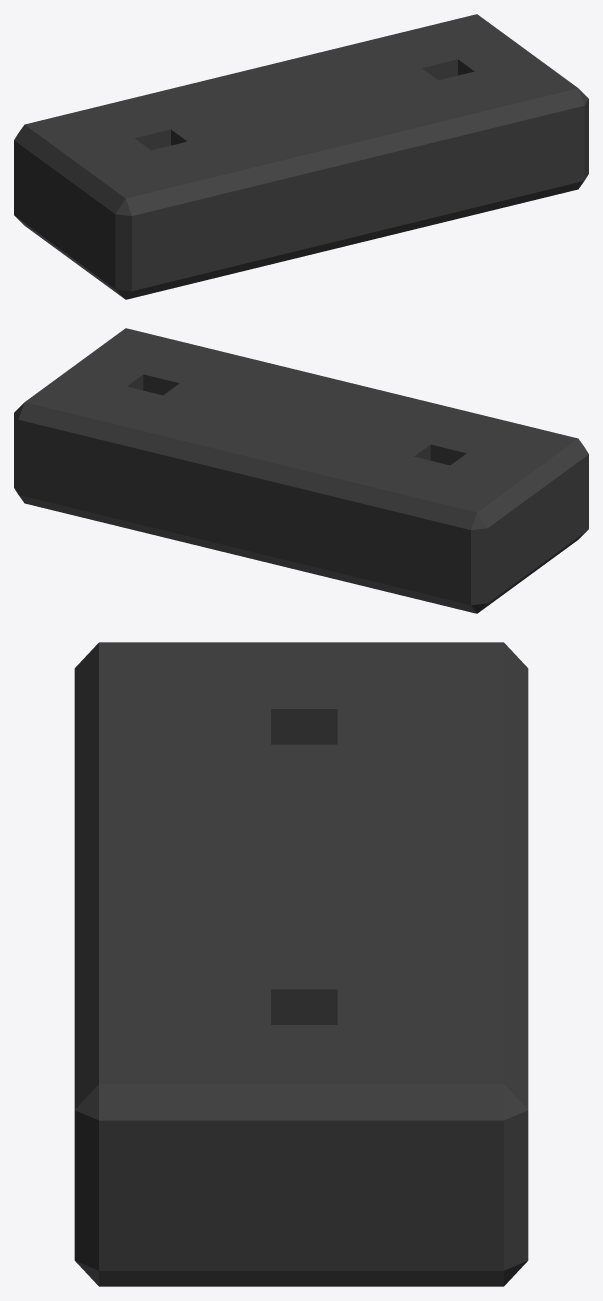
File: Weight_D.fbx
3 views of the same model, one above another, from view 1: azimuth 30°, elevation 25°; view 2: azimuth 150°, elevation 25°; view 3: azimuth 270°, elevation 25° (orthographic). The views are drawn at different scales.
Parts seen in each view (by area): view 1: Weight_D; view 2: Weight_D; view 3: Weight_D.
Boxes of the visible parts, x1=… form: Weight_D: x1=14, y1=14, x2=588, y2=299; Weight_D: x1=14, y1=328, x2=588, y2=613; Weight_D: x1=74, y1=642, x2=528, y2=1286.
Size of the model in its own units: 30.76 by 6.28 by 12.76.
